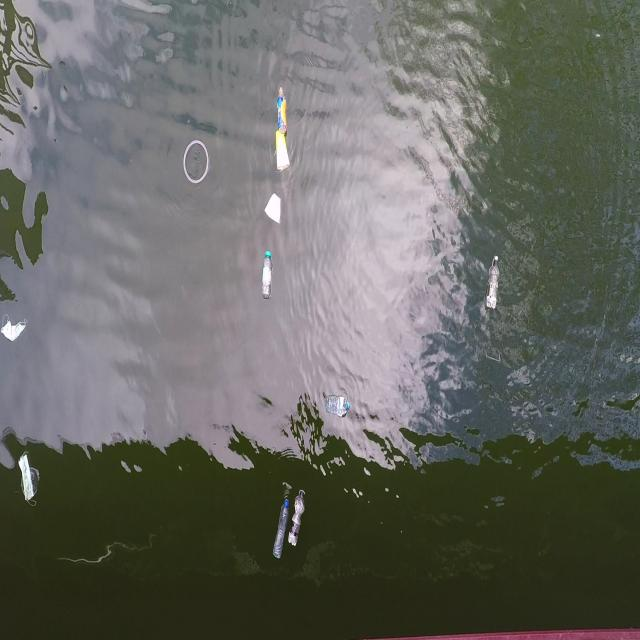Bouteille plastique: (267, 486, 294, 574), (282, 486, 309, 562), (483, 249, 504, 316), (259, 246, 275, 306), (323, 391, 351, 422), (274, 84, 290, 132)
Non plastique: (12, 446, 40, 516), (0, 305, 31, 347), (272, 130, 292, 178), (262, 192, 286, 229)
